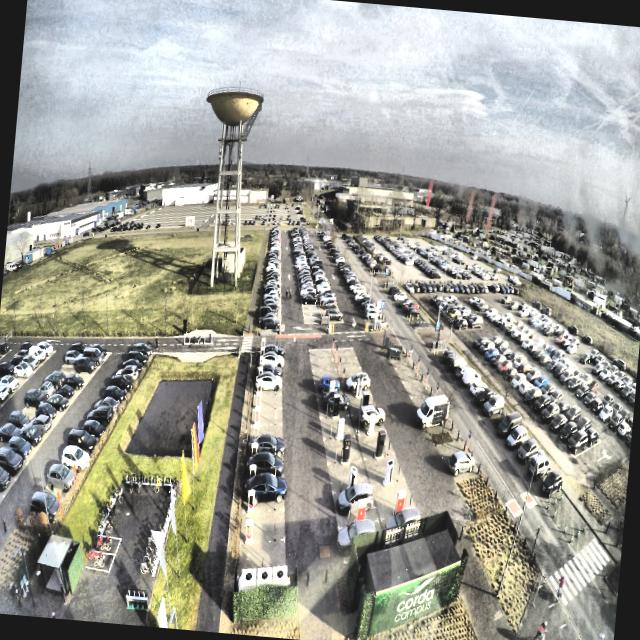cabinet: (241, 565, 287, 584)
car: (245, 472, 288, 507), (248, 450, 285, 480), (250, 433, 287, 457), (254, 372, 283, 392), (259, 351, 284, 367), (257, 362, 283, 377), (260, 344, 284, 358)
parking: (237, 538, 286, 577), (240, 508, 284, 543), (243, 482, 284, 511), (245, 462, 283, 484), (247, 441, 283, 463), (249, 424, 283, 443), (251, 409, 282, 426), (252, 394, 282, 409), (254, 379, 282, 395), (256, 365, 281, 376), (257, 355, 282, 366), (257, 346, 282, 356)
supercharger: (245, 519, 253, 543), (248, 490, 255, 512), (249, 464, 256, 481), (254, 407, 260, 424), (251, 443, 257, 459), (253, 424, 259, 439), (257, 379, 262, 392), (256, 392, 261, 404), (258, 367, 263, 378), (259, 356, 264, 366), (260, 346, 264, 357), (261, 337, 265, 347)
